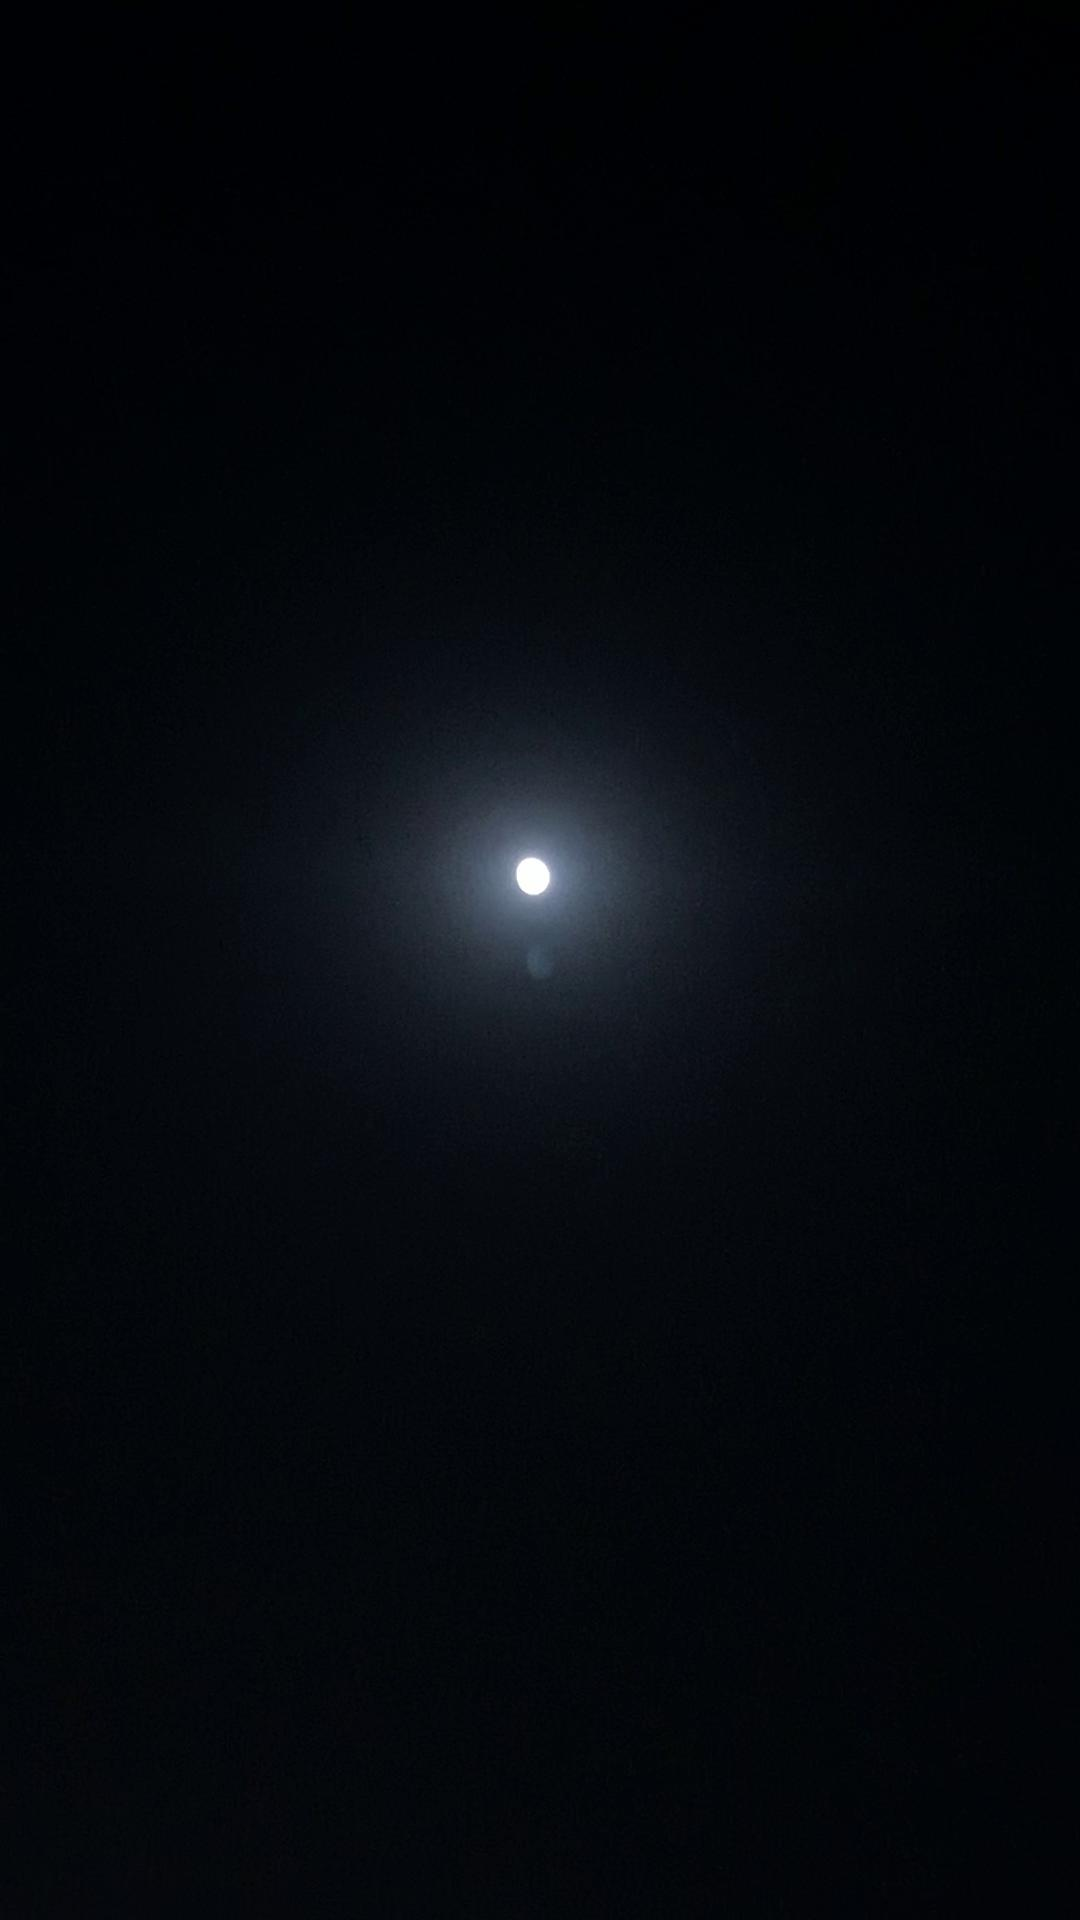moon: (491, 831, 578, 927)
